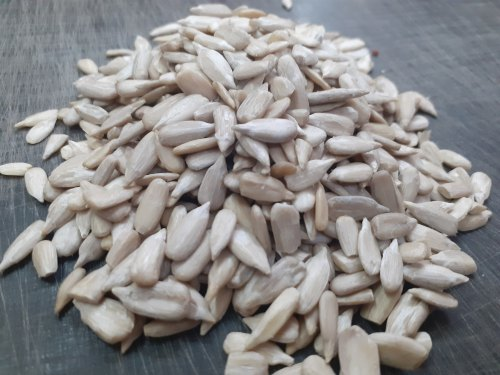seed: (1, 1, 500, 375)
